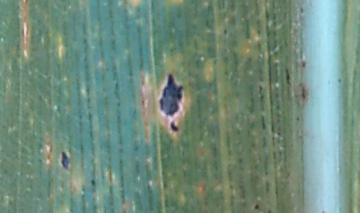tarspot: (158, 73, 183, 114), (61, 151, 70, 169), (285, 69, 292, 87), (169, 120, 180, 131), (253, 203, 261, 211), (90, 178, 97, 186)
